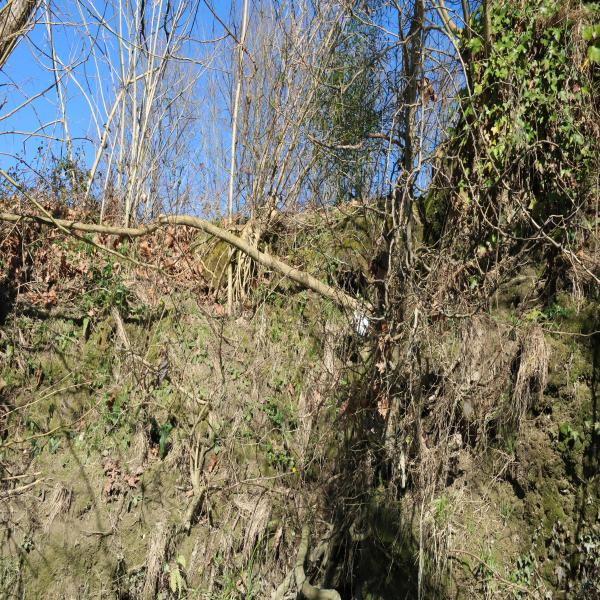others: (350, 302, 370, 334)
